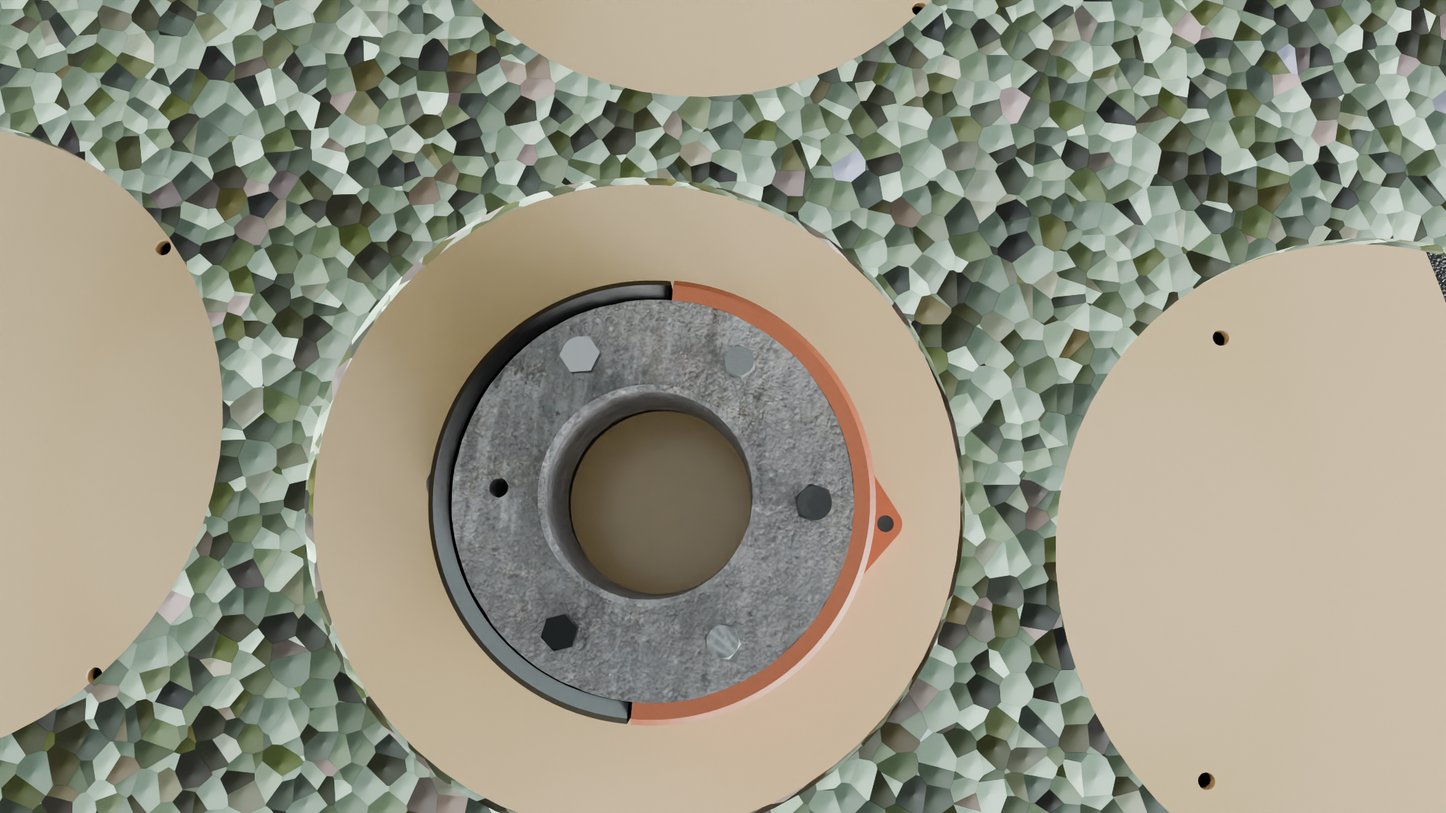bolt: (795, 484, 833, 522), (560, 336, 599, 372), (541, 614, 578, 651), (704, 623, 741, 659), (724, 345, 755, 377)
